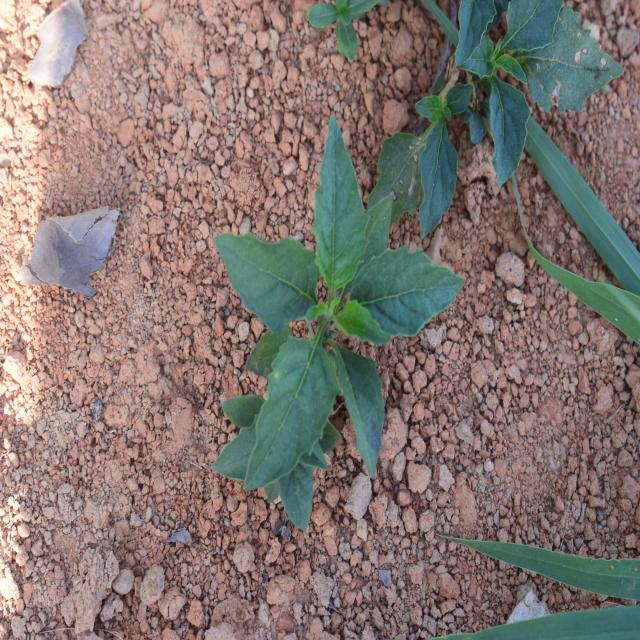Black_nightshade: (211, 153, 459, 519)
